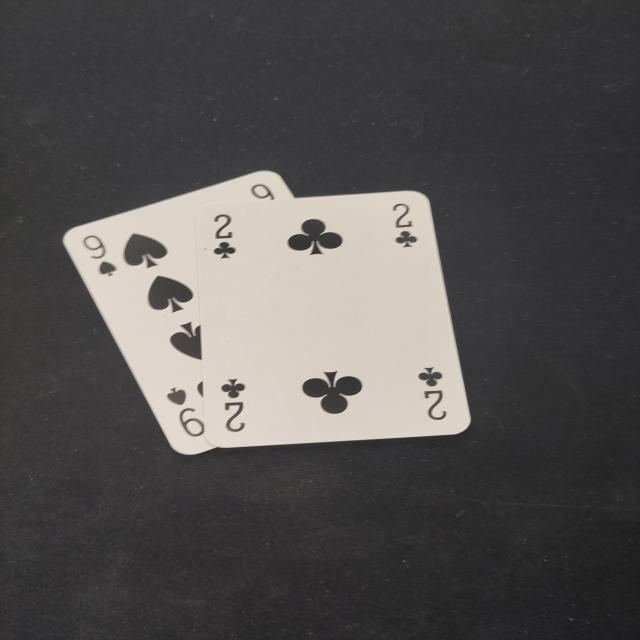2c: (213, 373, 254, 436), (414, 361, 451, 425), (209, 210, 242, 266), (389, 199, 422, 254)
9s: (162, 384, 206, 443), (78, 232, 124, 284)
